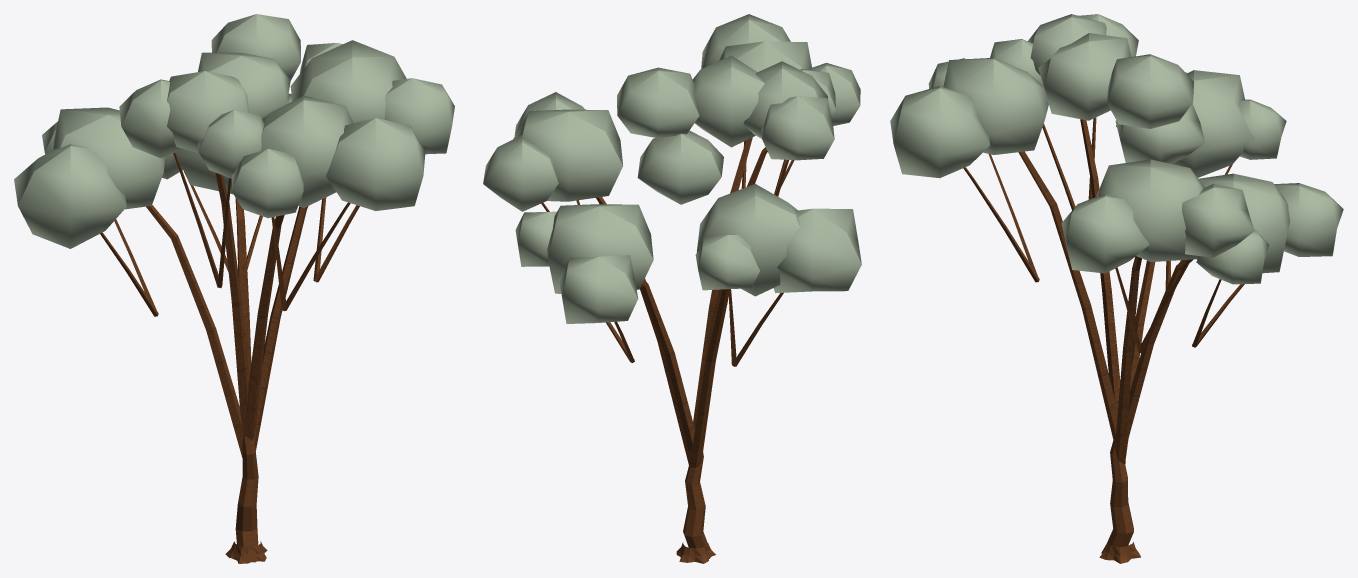
File: sycamore-mature.glb
3 views of the same model, side by side, from view 1: azimuth 30°, elevation 25°; view 2: azimuth 150°, elevation 25°; view 3: azimuth 270°, elevation 25° (orthographic). The views are drawn at different scales.
Visible parts, largest first — view 1: sycamore-mature; view 2: sycamore-mature; view 3: sycamore-mature.
Part boxes in pixels (bbox=[...]): sycamore-mature: bbox=[14, 14, 454, 563]; sycamore-mature: bbox=[483, 14, 861, 563]; sycamore-mature: bbox=[890, 14, 1343, 563].
Bounding box in the file's own units: 16.15 × 20.07 × 16.16.
Materials: 2 (1 with a texture image).
